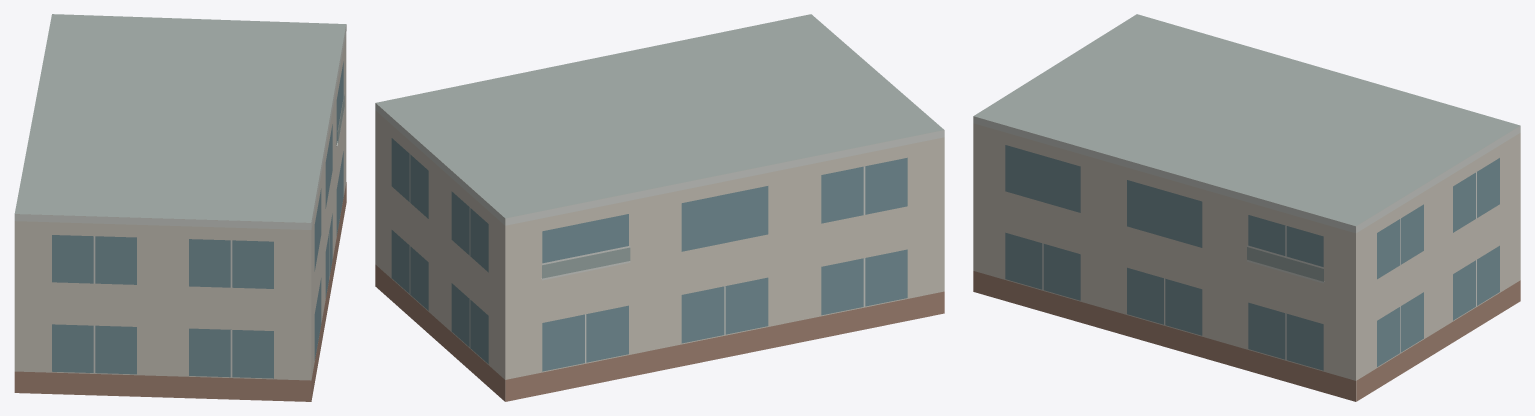
The model's file is survey-upis-32704754.glb.
3 renders of one model, left to right at view 1: azimuth 30°, elevation 25°; view 2: azimuth 150°, elevation 25°; view 3: azimuth 270°, elevation 25°, orthographic. The views are drawn at different scales.
Visible parts, largest first — view 1: survey-upis-32704754.tmp; view 2: survey-upis-32704754.tmp; view 3: survey-upis-32704754.tmp.
Part boxes in pixels (left/top/right/bottom): survey-upis-32704754.tmp: left=14, top=14, right=346, bottom=401; survey-upis-32704754.tmp: left=375, top=14, right=944, bottom=401; survey-upis-32704754.tmp: left=973, top=14, right=1520, bottom=401.
Bounding box in the file's own units: 15.83 × 6.1 × 17.24.
